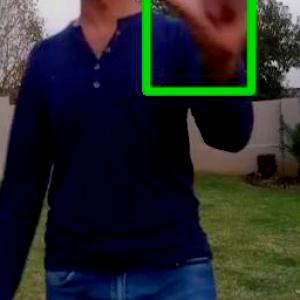land_hand: (148, 0, 264, 76)
